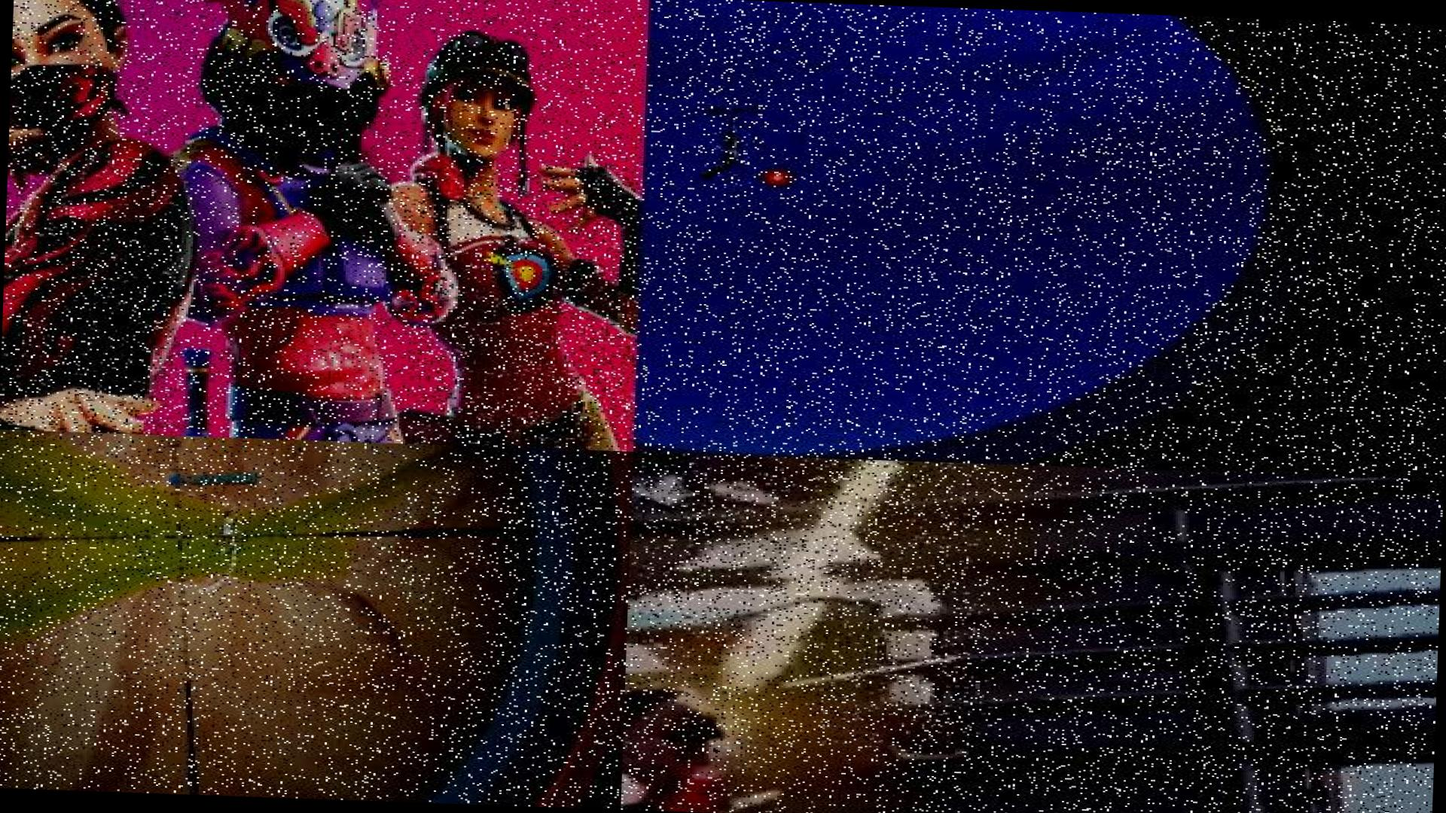player: (622, 452, 992, 768), (157, 130, 450, 445), (383, 169, 643, 452), (0, 157, 238, 437), (693, 140, 744, 197), (206, 518, 234, 567)
